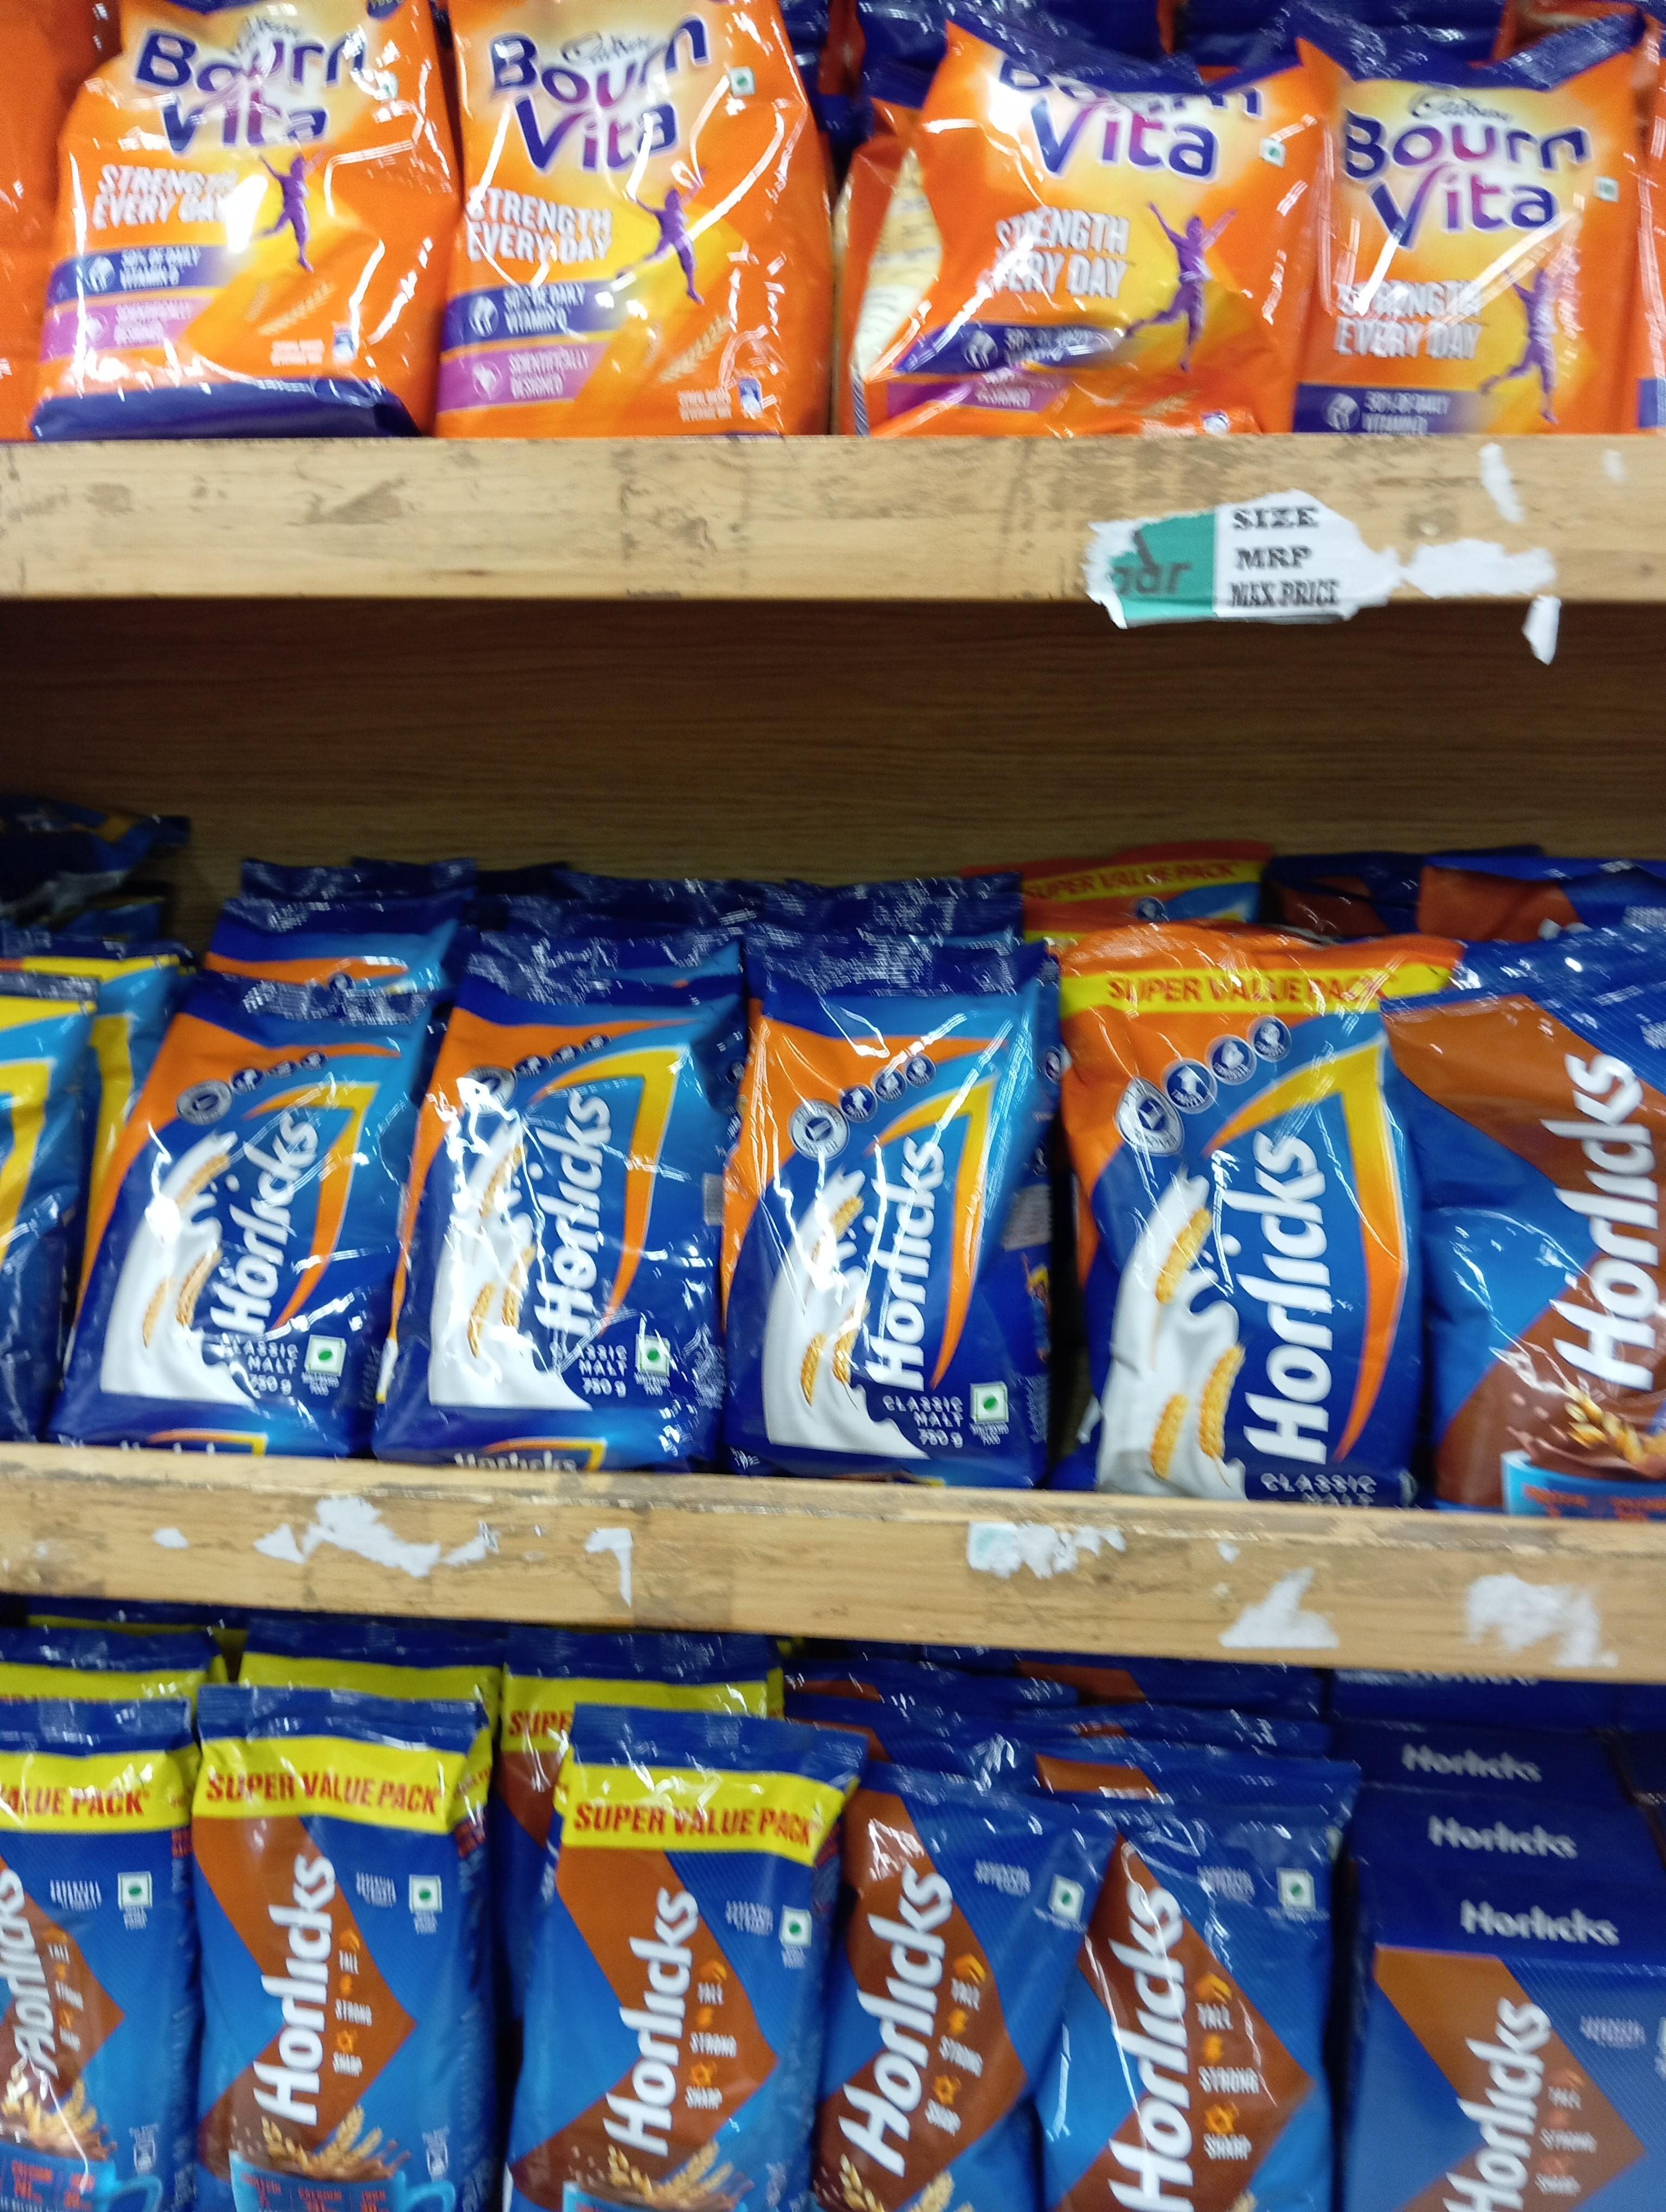BOURN_VITA_500_G_POUCH: (894, 2, 1293, 428), (1316, 33, 1615, 437)
BOURN_VITA_750_G_POUCH: (445, 0, 808, 439), (52, 0, 427, 425)
HORLICK_CHOCOLATE_500_G_PACK: (1360, 1929, 1666, 2212)
HORLICK_CHOCOLATE_750_G_POUCH: (198, 1686, 490, 2212), (553, 1715, 814, 2212), (1061, 1791, 1333, 2212), (0, 1691, 186, 2212), (831, 1775, 1034, 2212)
HORLICK_CLASSIC_MALT_750_G_POUCH: (1069, 937, 1423, 1502), (733, 970, 1052, 1485), (411, 983, 709, 1471), (98, 949, 362, 1448)
